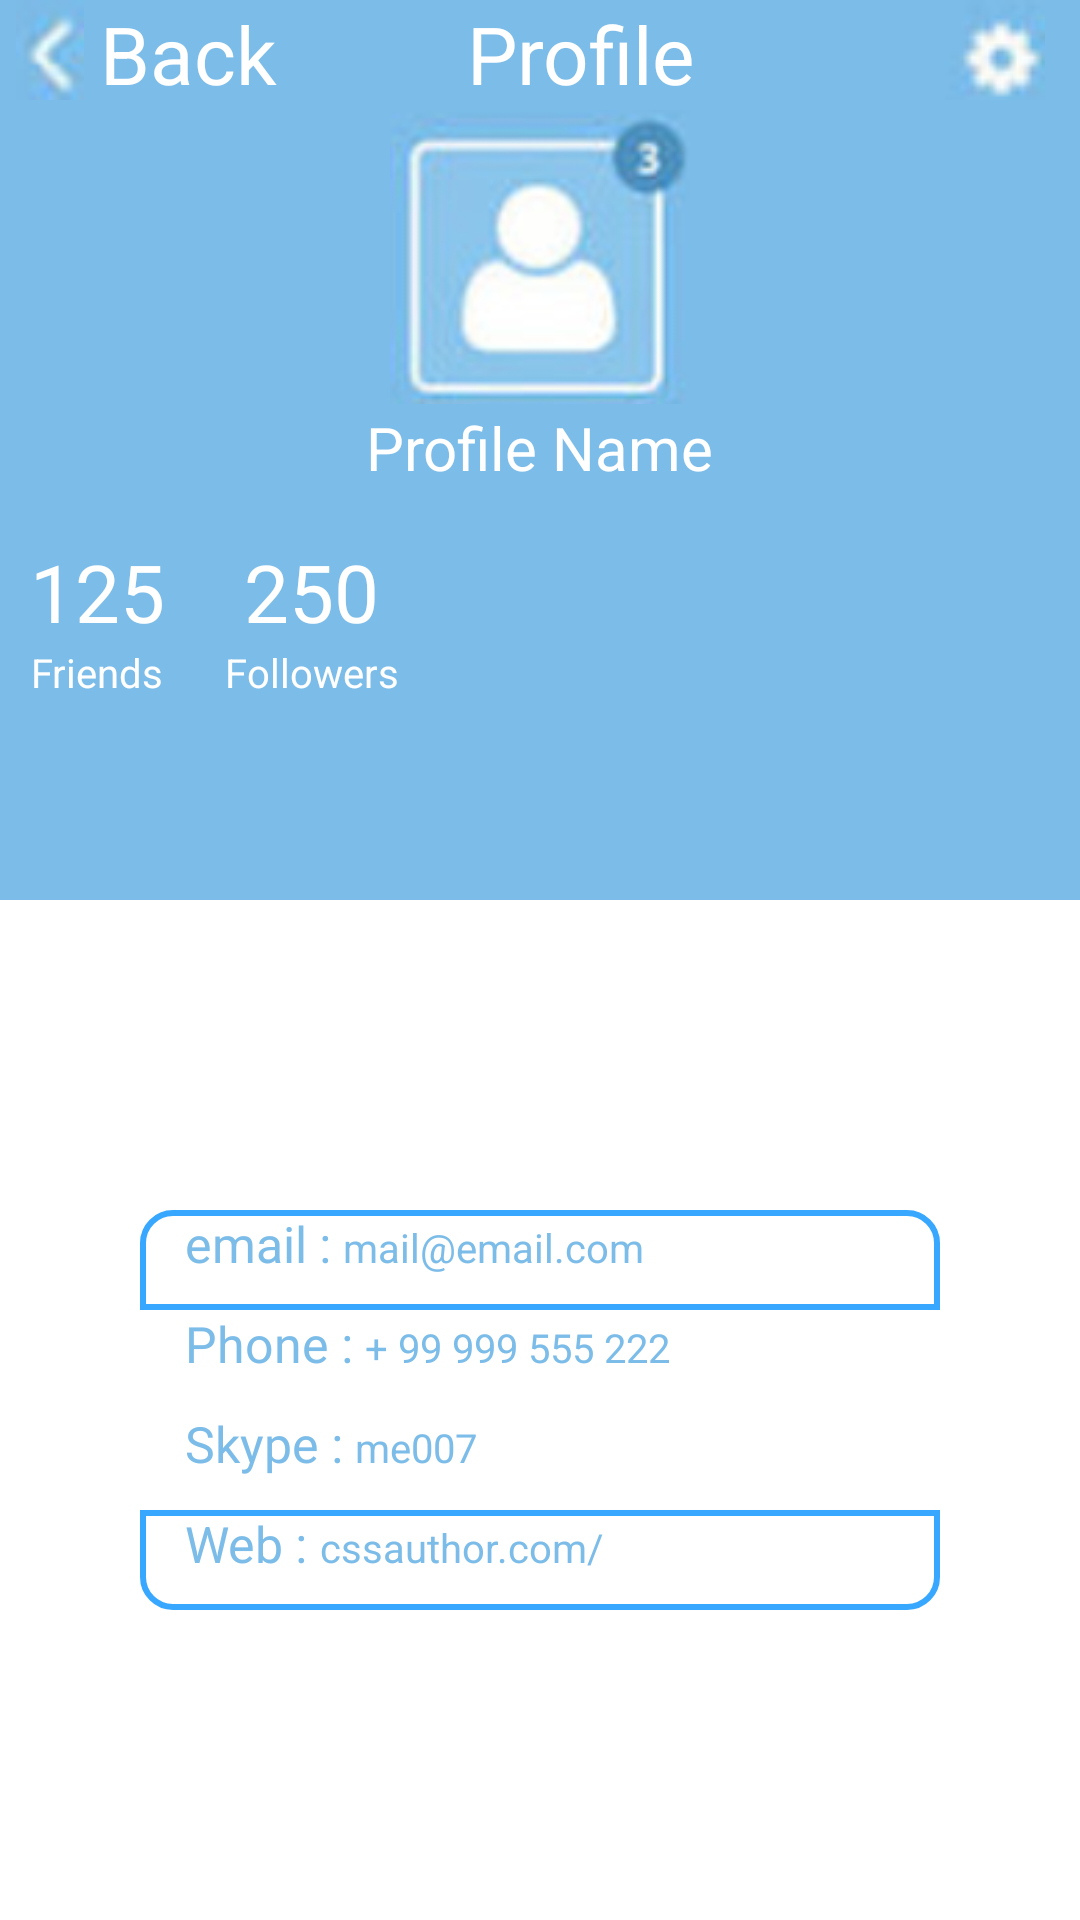

Where to tap for icons on this 1080 x 1920 app screen, as [x,y]:
banhrang: [1002,58]
muiten: [51,55]
